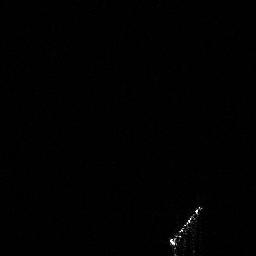ship: (165, 201, 209, 256)
